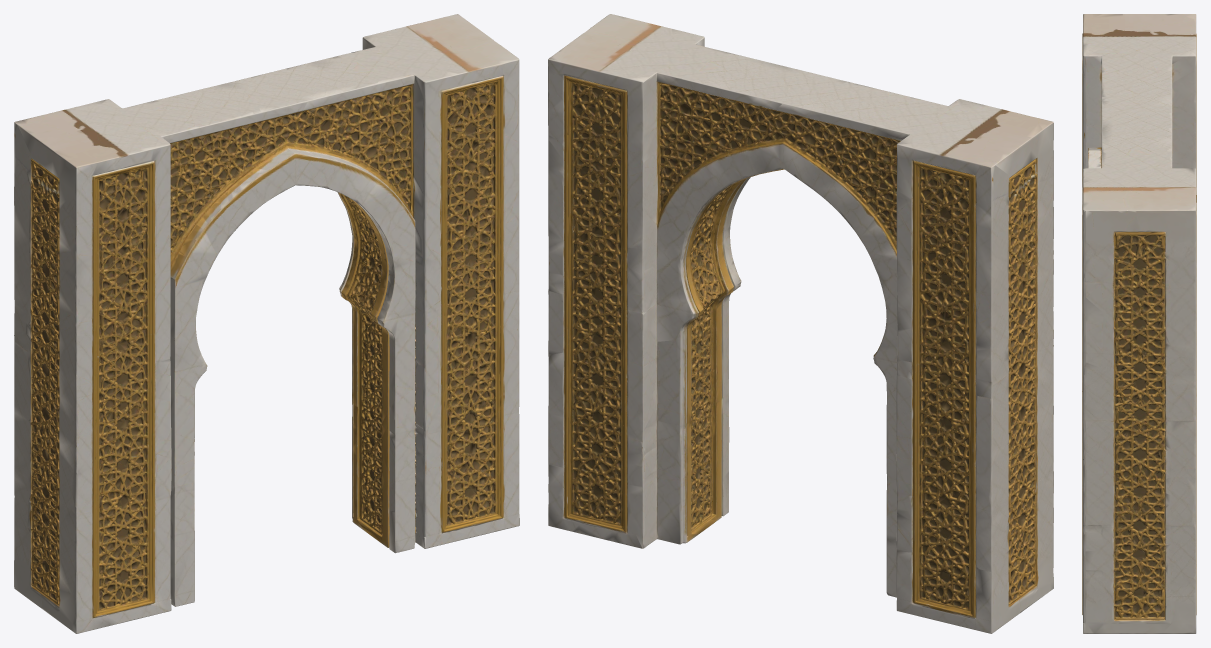
Rendered from gateway_interior.glb.
3 renders of one model, left to right at view 1: azimuth 30°, elevation 25°; view 2: azimuth 150°, elevation 25°; view 3: azimuth 270°, elevation 25°, orthographic. The views are drawn at different scales.
Size of the model in its own units: 8.98 by 9 by 2.21.
Materials: 1 (1 with a texture image).
